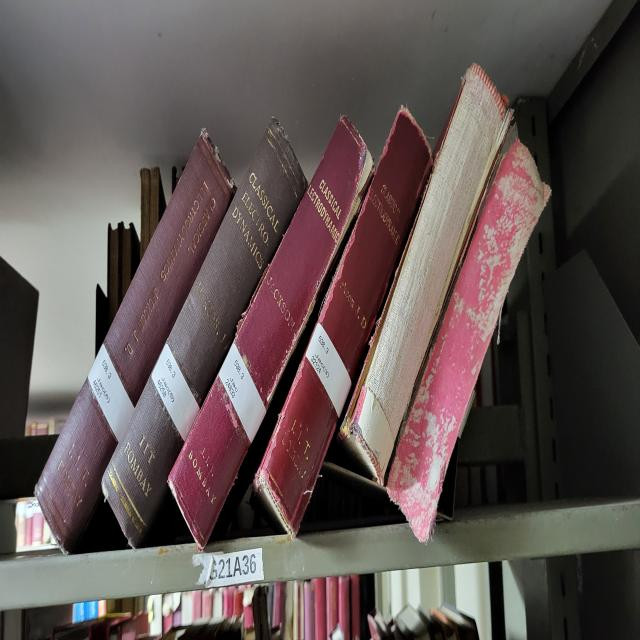Book: (169, 116, 374, 549), (102, 119, 306, 547), (35, 133, 234, 552), (254, 108, 431, 536)
Label: (151, 344, 199, 441), (219, 344, 266, 441), (88, 344, 134, 441), (305, 322, 351, 417)
